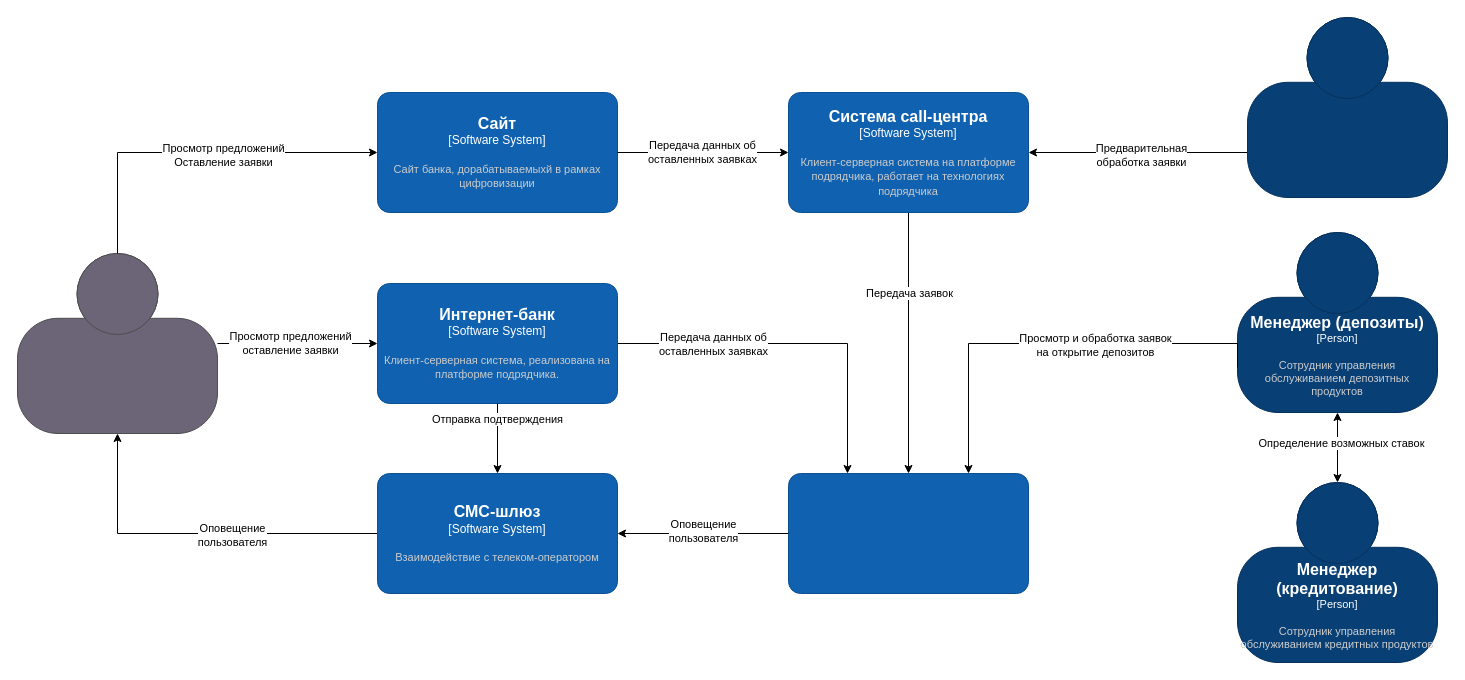
This 1465x680 diagram has some shape labels left out. The shapes that lost their labels are listed below. From the top down, each one's box as (x1, y1, x2, y2) in pixels, then its label:
(1246, 16, 1448, 198): Сотрудник call-центра [Person]
(16, 252, 218, 434): Клиент [Person]
(788, 472, 1028, 594): АБС [Software System] Автоматизированная банковская система
